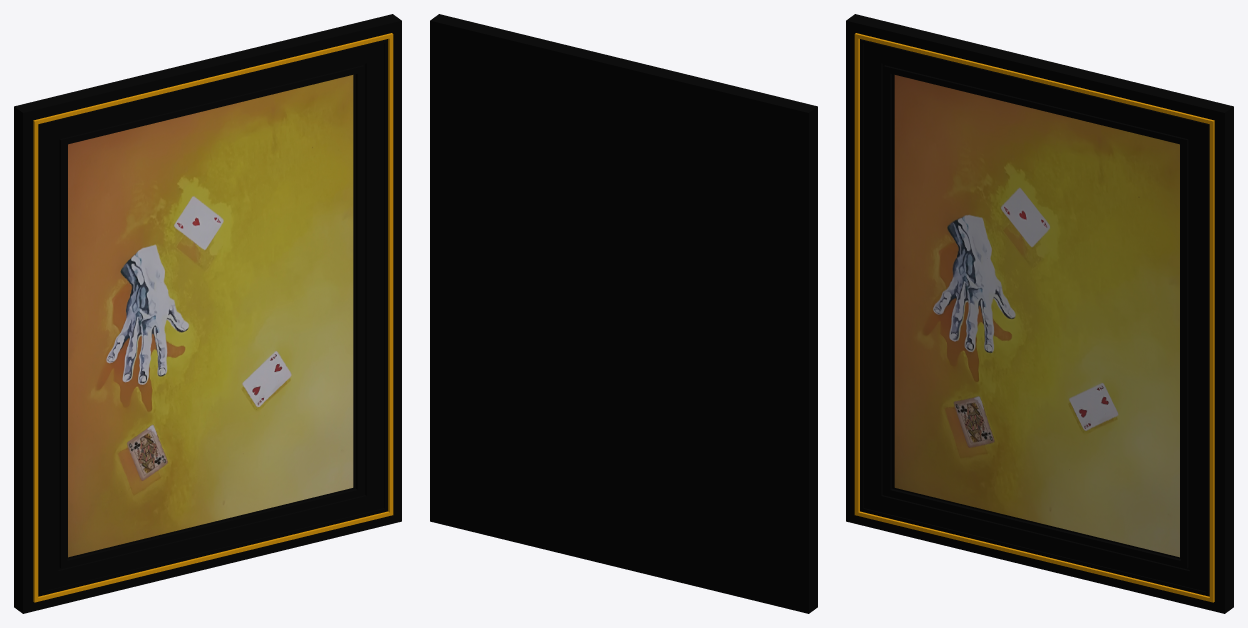
File: fbxPainting.fbx
3 views of the same model, side by side, from view 1: azimuth 30°, elevation 25°; view 2: azimuth 150°, elevation 25°; view 3: azimuth 330°, elevation 25° (orthographic).
Parts seen in each view (by area): view 1: Painting; view 2: Painting; view 3: Painting.
Boxes of the visible parts, x1,y1,x2,y2 form: Painting: [14, 14, 401, 613]; Painting: [430, 14, 817, 613]; Painting: [846, 14, 1233, 613].
Bounding box in the file's own units: 5.53 × 6.99 × 0.2648.
Materials: 3 (1 with a texture image).
